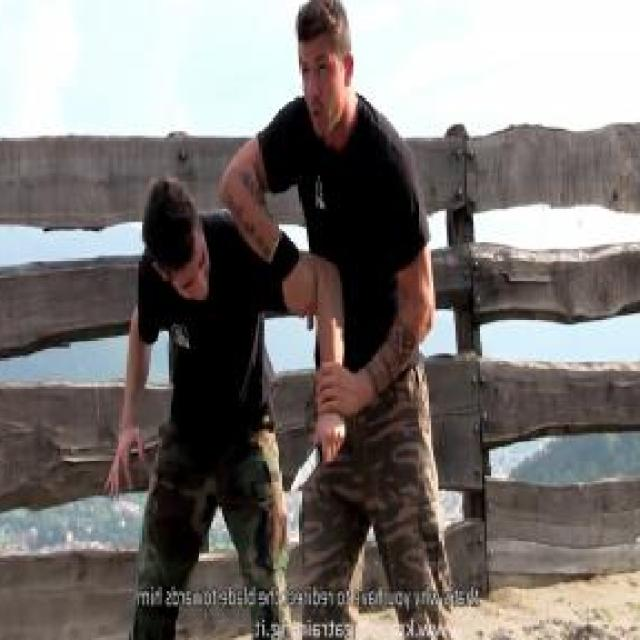knife: (286, 416, 346, 501)
